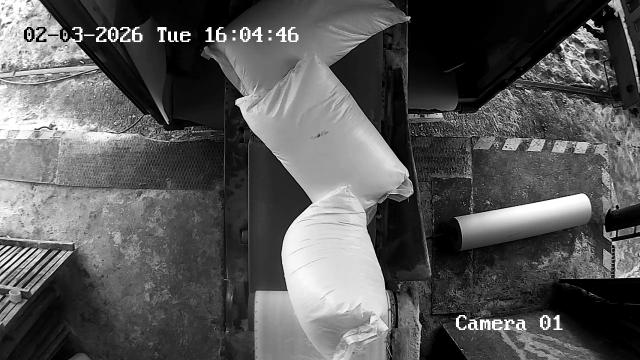bag: (236, 49, 414, 226), (204, 0, 411, 99), (282, 185, 388, 360)
